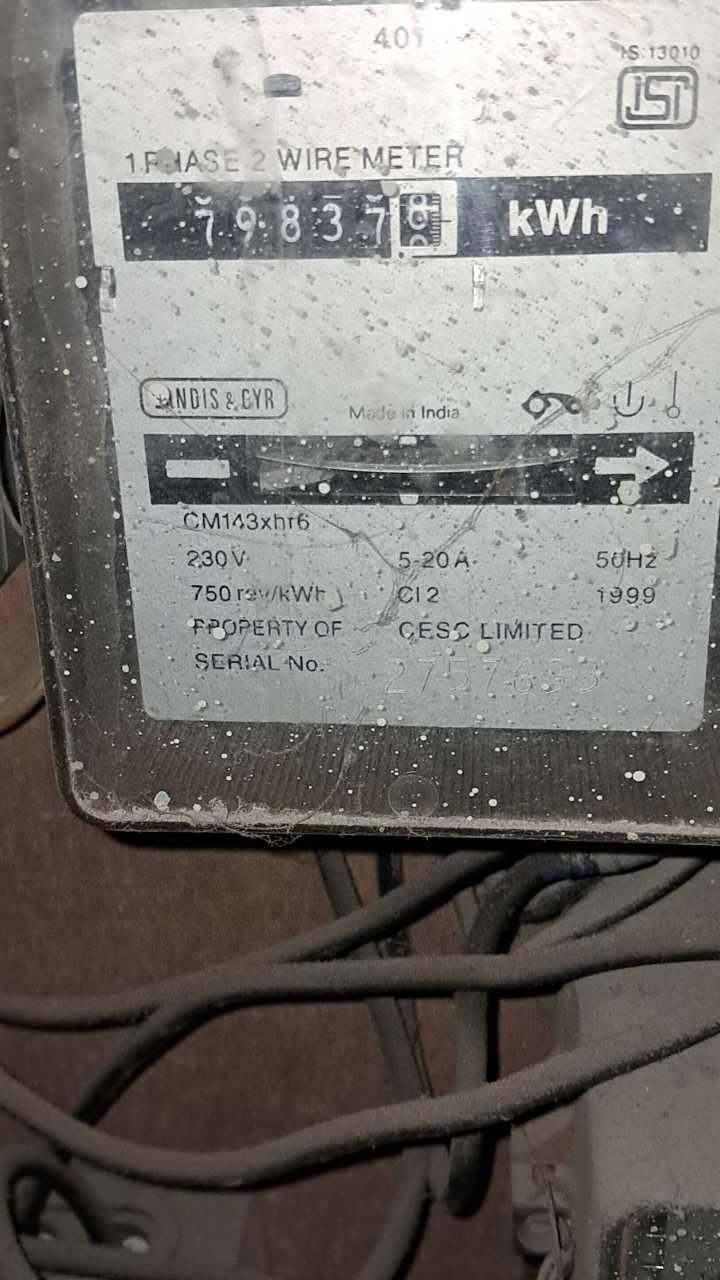meter_readings: (181, 188, 449, 253)
serial_number: (380, 653, 617, 708)
